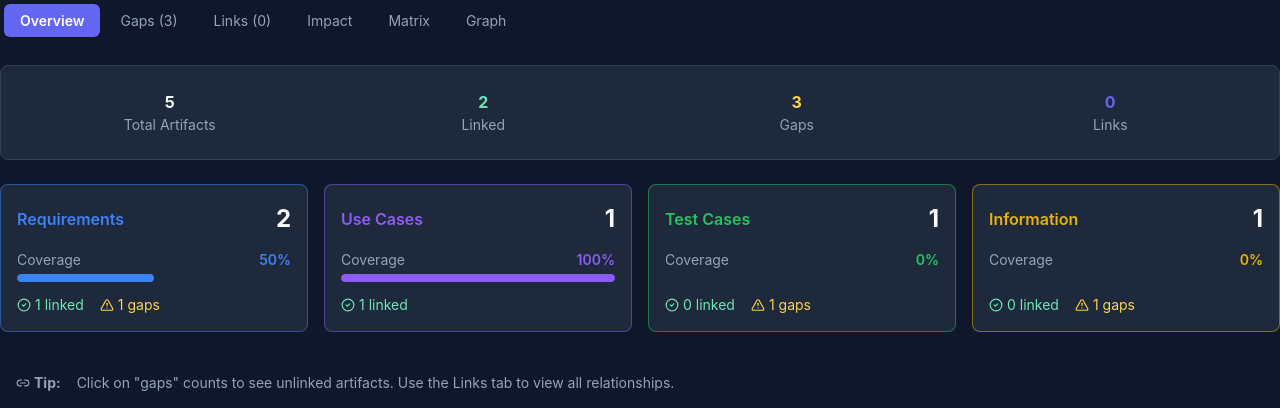
Test case: TraceabilityDashboard › Tab Navigation › switches to Links tab when clicked
The width and height of the screenshot is (1280, 408).
Click the button "Links (0)" at (242, 20), box [198,4,287,37]
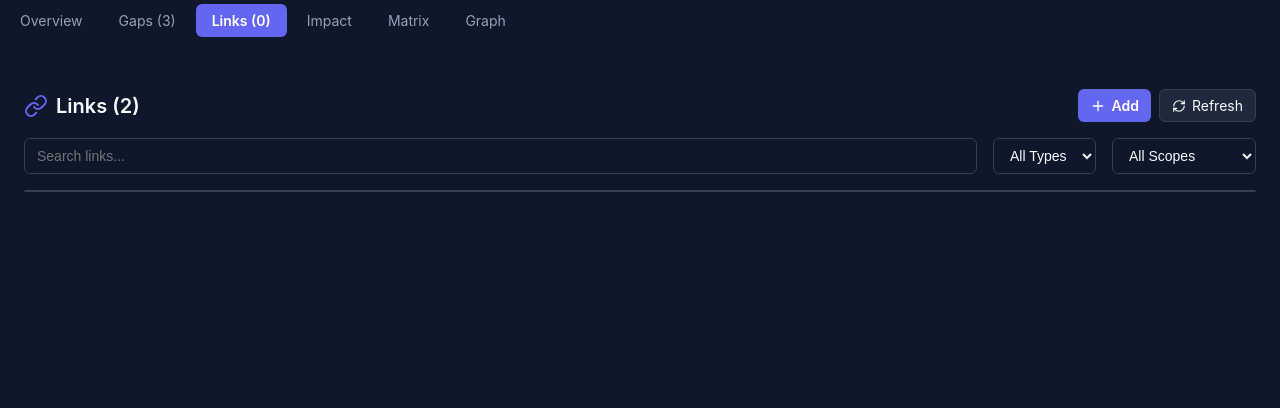
Check: the heading "Links (2)" is shown, box [24,90,140,120]
